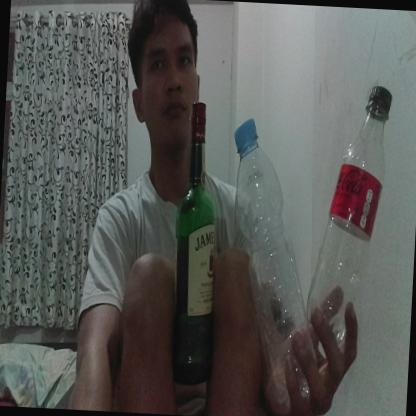objects: (168, 103, 227, 387)
plastic_bottles: (221, 116, 328, 414), (306, 81, 394, 350)
